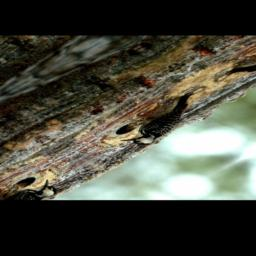Woodpecker: (98, 84, 231, 154)
